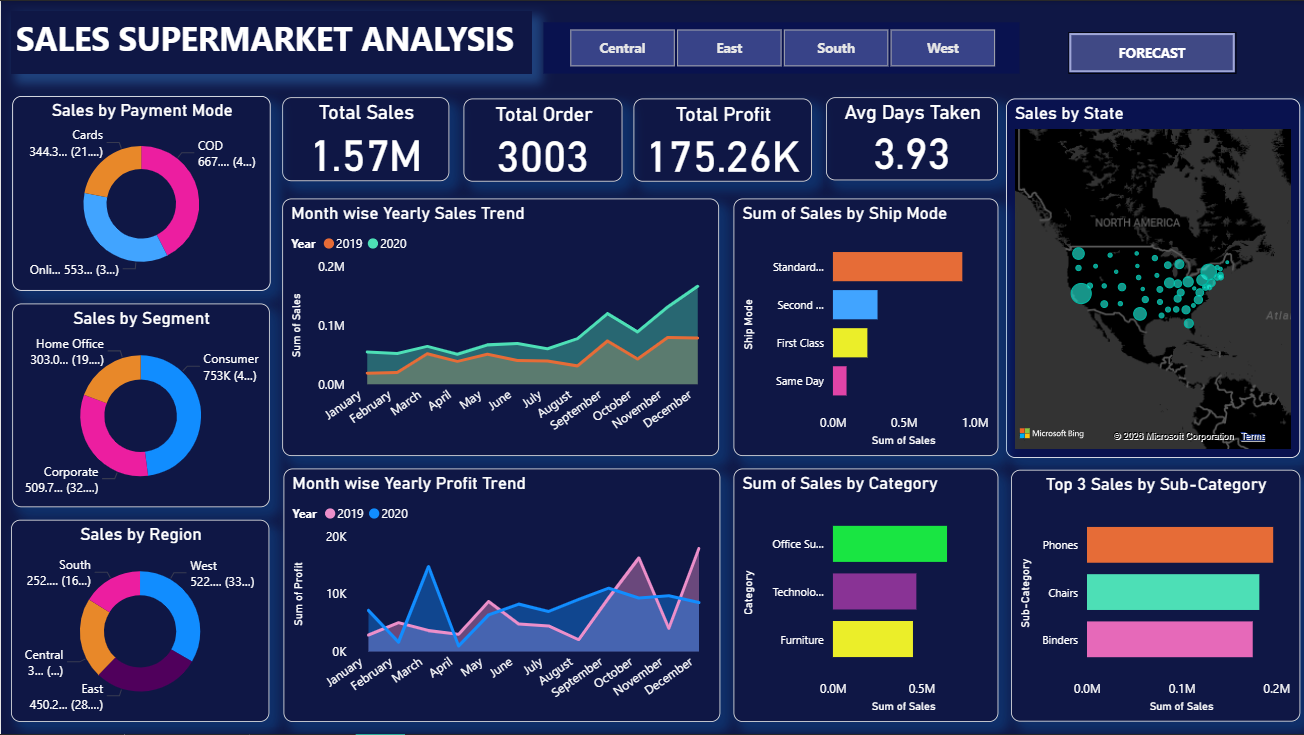

The dashboard page shown, as its layout file describes it:
{"tool":"powerbi","page":{"name":"Dashboard","canvas":[1280,720],"ordinal":0},"visuals":[{"type":"textbox","box":[10,10,511.2,61.2],"z":0},{"type":"card","title":"Total Sales","fields":{"Values":["Sum(Sales_Dataset_proj2.Sales)"]},"box":[276.2,95,163.8,82.5],"z":1000},{"type":"card","title":"Total Order","fields":{"Values":["Count(Sales_Dataset_proj2.Order ID)"]},"box":[453.8,96.2,156.2,81.2],"z":2000},{"type":"card","title":"Total Profit","fields":{"Values":["Sum(Sales_Dataset_proj2.Profit)"]},"box":[621.2,96.2,175,81.2],"z":3000},{"type":"card","title":"Avg Days Taken","fields":{"Values":["Avg(Sales_Dataset_proj2.Ship days)"]},"box":[810,95,168.8,81.2],"z":4000},{"type":"donutChart","title":"Sales by Payment Mode","fields":{"Category":["Sales_Dataset_proj2.Payment Mode"],"Y":["Sum(Sales_Dataset_proj2.Sales)"]},"box":[11.2,93.8,253.8,191.2],"z":5000},{"type":"donutChart","title":"Sales by Segment","fields":{"Category":["Sales_Dataset_proj2.Segment"],"Y":["Sum(Sales_Dataset_proj2.Sales)"]},"box":[11.2,297.5,252.5,200],"z":6000},{"type":"donutChart","title":"Sales by Region","fields":{"Y":["Sum(Sales_Dataset_proj2.Sales)"],"Category":["Sales_Dataset_proj2.Region"]},"box":[10,508.8,253.8,198.8],"z":7000},{"type":"map","title":"Sales by State","fields":{"Category":["Sales_Dataset_proj2.State"],"Size":["Sum(Sales_Dataset_proj2.Sales)"]},"box":[986.2,96.2,288.8,352.5],"z":8000},{"type":"areaChart","title":"Month wise Yearly Sales Trend","fields":{"Y":["Sum(Sales_Dataset_proj2.Sales)"],"Category":["Sales_Dataset_proj2.Order Date.Variation.Date Hierarchy.Month"],"Series":["Sales_Dataset_proj2.Order Date.Variation.Date Hierarchy.Year"]},"box":[276.2,193.8,428.8,252.5],"z":9000},{"type":"areaChart","title":"Month wise Yearly Profit Trend","fields":{"Category":["Sales_Dataset_proj2.Order Date.Variation.Date Hierarchy.Month"],"Series":["Sales_Dataset_proj2.Order Date.Variation.Date Hierarchy.Year"],"Y":["Sum(Sales_Dataset_proj2.Profit)"]},"box":[277.5,458.8,428.8,248.8],"z":10000},{"type":"barChart","fields":{"Category":["Sales_Dataset_proj2.Ship Mode"],"Y":["Sum(Sales_Dataset_proj2.Sales)"]},"box":[718.8,193.8,260,252.5],"z":11000},{"type":"barChart","fields":{"Y":["Sum(Sales_Dataset_proj2.Sales)"],"Category":["Sales_Dataset_proj2.Category"]},"box":[718.8,458.8,260,248.8],"z":12000},{"type":"barChart","title":"Top 3 Sales by Sub-Category","fields":{"Y":["Sum(Sales_Dataset_proj2.Sales)"],"Category":["Sales_Dataset_proj2.Sub-Category"]},"box":[991.2,460,283.8,247.5],"z":13000},{"type":"slicer","fields":{"Values":["Sales_Dataset_proj2.Region"]},"box":[532.5,21.2,467.5,50],"z":14000},{"type":"actionButton","title":"Forecast","box":[1047.9,30.7,164.4,40.5],"z":15000}]}

Visuals, with their boxes in screenshot pixels (x1, y1, x2, y2), scaled from the page's 1280x720 canvas onto the 1304x735 screenshot:
textbox: (x1=10, y1=10, x2=531, y2=73)
"Total Sales" card: (x1=281, y1=97, x2=448, y2=181)
"Total Order" card: (x1=462, y1=98, x2=621, y2=181)
"Total Profit" card: (x1=633, y1=98, x2=811, y2=181)
"Avg Days Taken" card: (x1=825, y1=97, x2=997, y2=180)
"Sales by Payment Mode" donutChart: (x1=11, y1=96, x2=270, y2=291)
"Sales by Segment" donutChart: (x1=11, y1=304, x2=269, y2=508)
"Sales by Region" donutChart: (x1=10, y1=519, x2=269, y2=722)
"Sales by State" map: (x1=1005, y1=98, x2=1299, y2=458)
"Month wise Yearly Sales Trend" areaChart: (x1=281, y1=198, x2=718, y2=456)
"Month wise Yearly Profit Trend" areaChart: (x1=283, y1=468, x2=720, y2=722)
barChart - Sales_Dataset_proj2.Ship Mode x Sum(Sales_Dataset_proj2.Sales): (x1=732, y1=198, x2=997, y2=456)
barChart - Sum(Sales_Dataset_proj2.Sales) x Sales_Dataset_proj2.Category: (x1=732, y1=468, x2=997, y2=722)
"Top 3 Sales by Sub-Category" barChart: (x1=1010, y1=470, x2=1299, y2=722)
slicer - Sales_Dataset_proj2.Region: (x1=542, y1=22, x2=1019, y2=73)
"Forecast" actionButton: (x1=1068, y1=31, x2=1235, y2=73)
